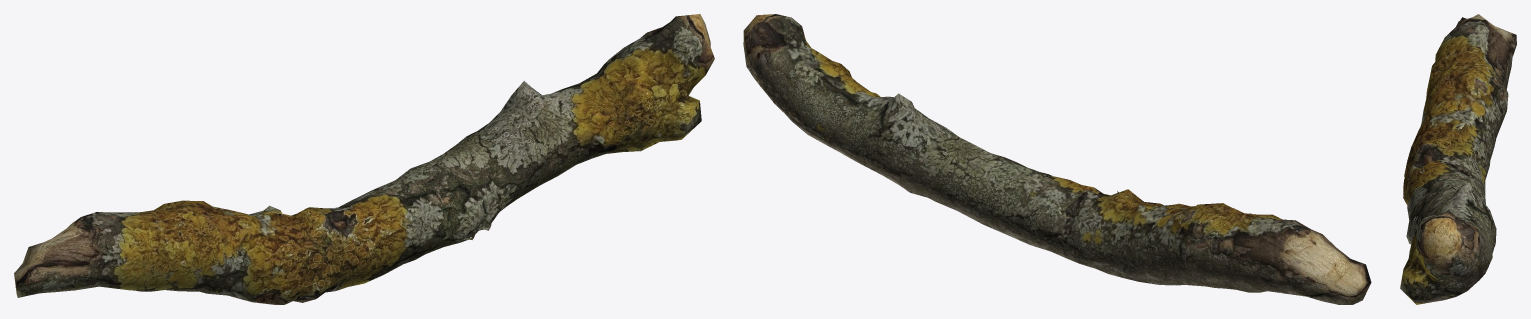
File: stick03.glb
3 views of the same model, side by side, from view 1: azimuth 30°, elevation 25°; view 2: azimuth 150°, elevation 25°; view 3: azimuth 270°, elevation 25° (orthographic). The views are drawn at different scales.
Parts seen in each view (by area): view 1: stick_03_stick_03_0; view 2: stick_03_stick_03_0; view 3: stick_03_stick_03_0.
Part boxes in pixels (x1,y1,x2,y2): stick_03_stick_03_0: (14,14,714,304); stick_03_stick_03_0: (743,14,1371,304); stick_03_stick_03_0: (1400,14,1516,304).
Size of the model in its own units: 1.3 by 0.3354 by 0.2075.
1 material, 1 textured.
